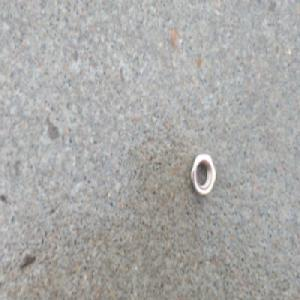Nut: (188, 151, 217, 198)
